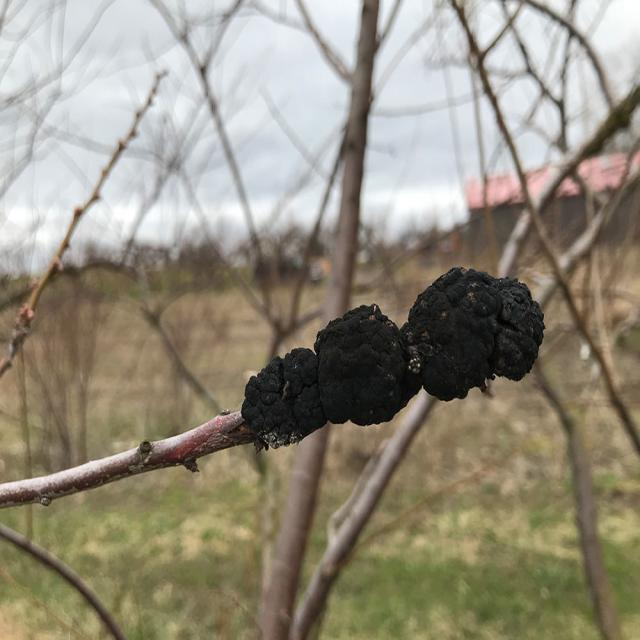Black_knot: (239, 263, 546, 452), (402, 264, 545, 402), (313, 301, 411, 427), (240, 345, 326, 451)
